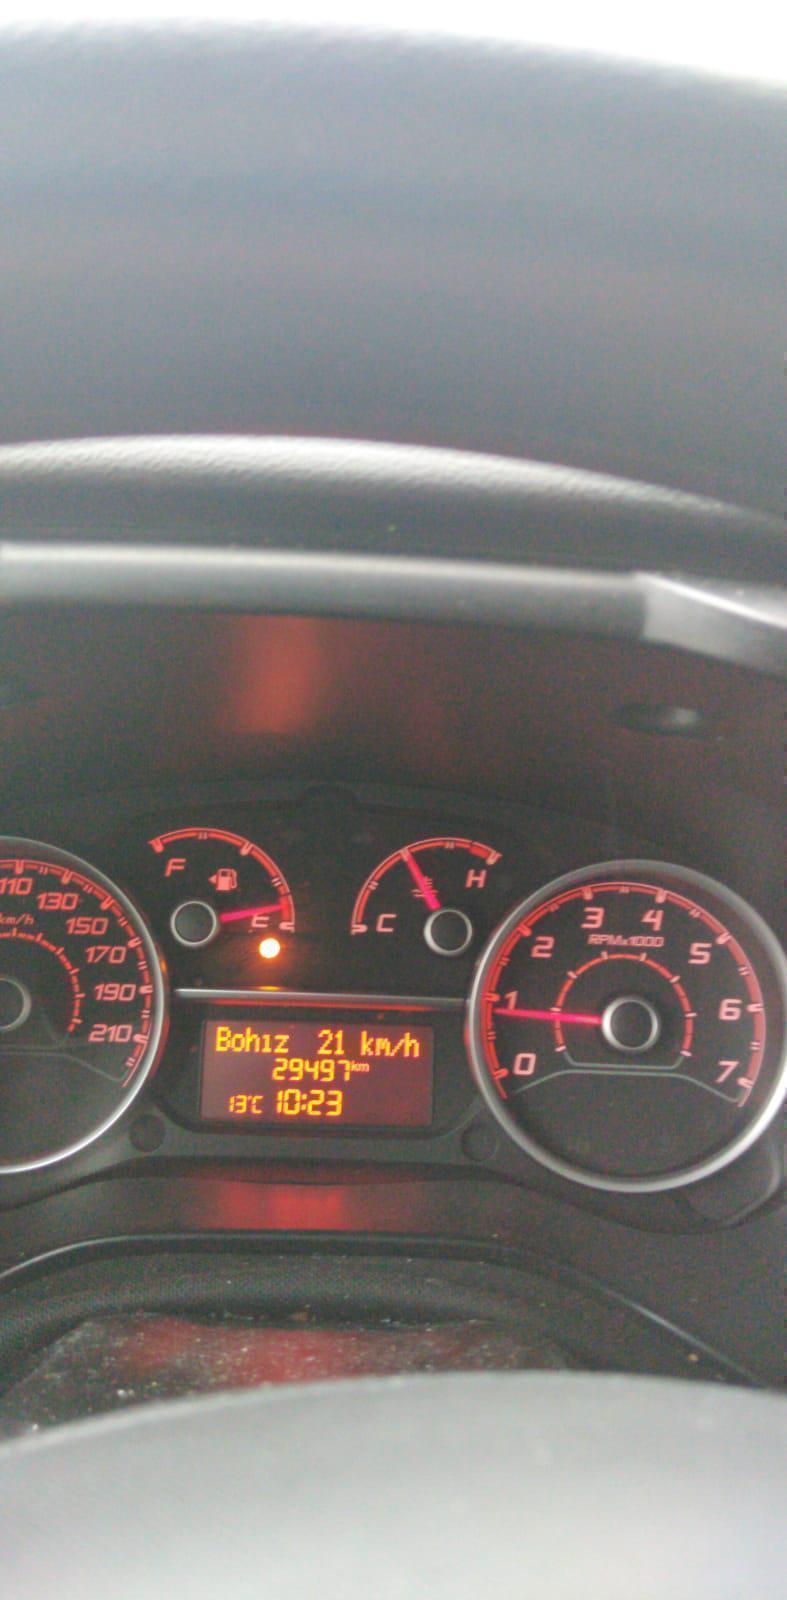0: (284, 1086, 299, 1115)
1: (334, 1028, 347, 1055), (275, 1088, 284, 1114), (226, 1093, 235, 1114)
2: (308, 1088, 326, 1117), (316, 1028, 333, 1056), (270, 1056, 288, 1081)
3: (326, 1089, 342, 1117), (235, 1092, 246, 1114)
4: (304, 1057, 319, 1081)
7: (337, 1058, 350, 1083)
9: (288, 1056, 304, 1082), (319, 1057, 334, 1082)
X: (213, 1024, 231, 1053), (273, 1031, 293, 1054), (403, 1030, 420, 1058), (246, 1024, 260, 1053), (358, 1028, 373, 1055), (374, 1034, 389, 1058), (251, 1093, 264, 1116), (231, 1031, 245, 1051), (391, 1037, 404, 1058), (261, 1031, 272, 1055), (300, 1091, 307, 1112), (350, 1058, 359, 1071), (360, 1062, 370, 1073)
odometer: (201, 1017, 436, 1128)
